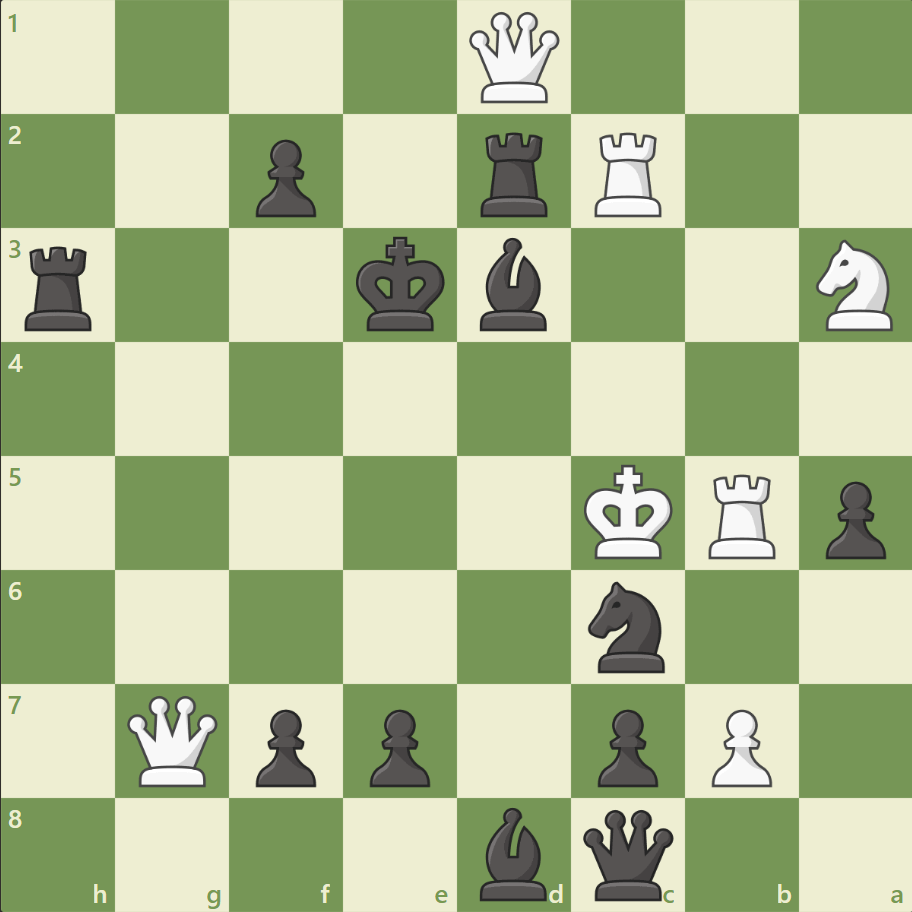K: (579, 458, 679, 566)
N: (806, 234, 903, 337)
P: (701, 700, 776, 791)
Q: (124, 690, 223, 789), (464, 9, 563, 108)
R: (700, 466, 783, 563), (587, 125, 670, 222)
b: (471, 801, 555, 904), (471, 233, 555, 336)
k: (351, 231, 451, 339)
n: (579, 575, 676, 677)
p: (247, 700, 322, 791), (247, 132, 322, 223), (588, 700, 662, 791), (361, 700, 435, 791), (815, 473, 889, 564)
q: (578, 804, 677, 903)
r: (19, 239, 102, 336), (473, 125, 556, 222)
